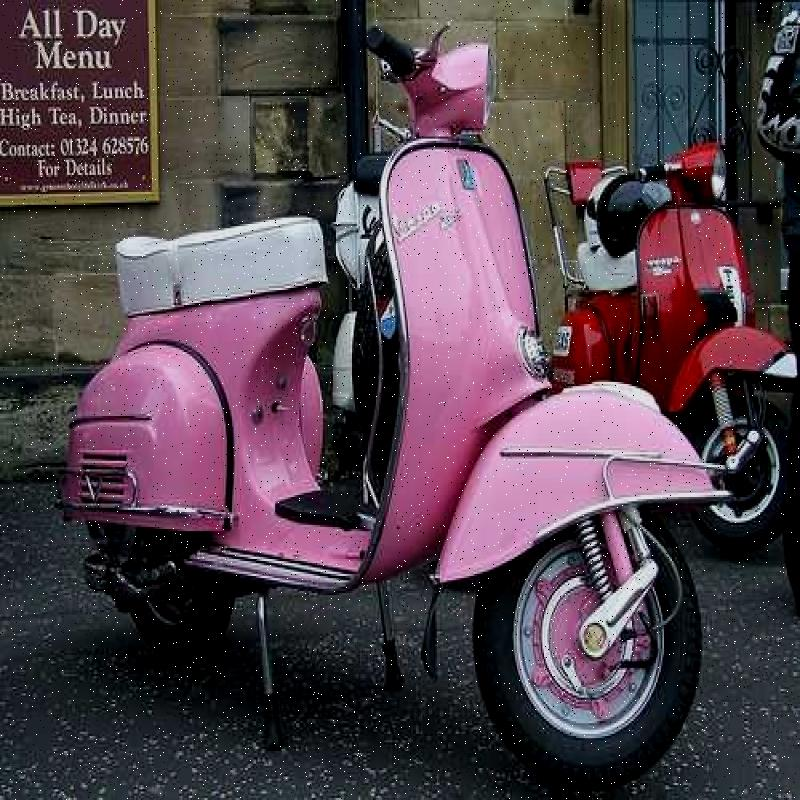bike: (67, 25, 695, 784), (567, 131, 780, 541)
